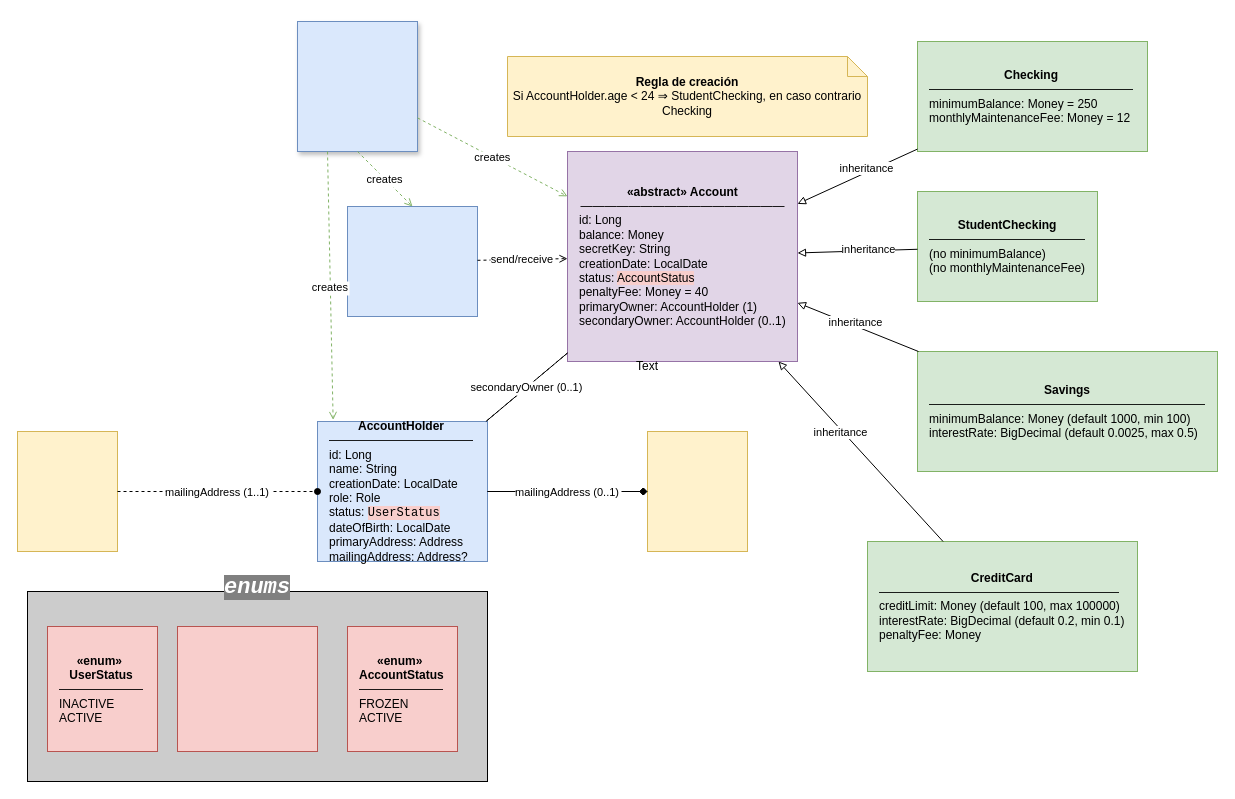
This 1235x799 diagram has some shape labels left out. Each missing label, with the centre of its shape:
"Address ——————— street: String city: String country: String" goes at pixel 697 491.
"Admin — — — — — — — — id: Long emai: String password:String role: Role" goes at pixel 358 87.
"PersonalData ——————— street: String city: String country: String" goes at pixel 67 491.
"ThirdParty — — — — — — — — — id: Long name: String hashedKey: String role: Role" goes at pixel 412 261.
"«enum» Role — — — — — — — — — ADMIN THIRDPARTY ACCOUNTHOLDER" goes at pixel 247 689.
